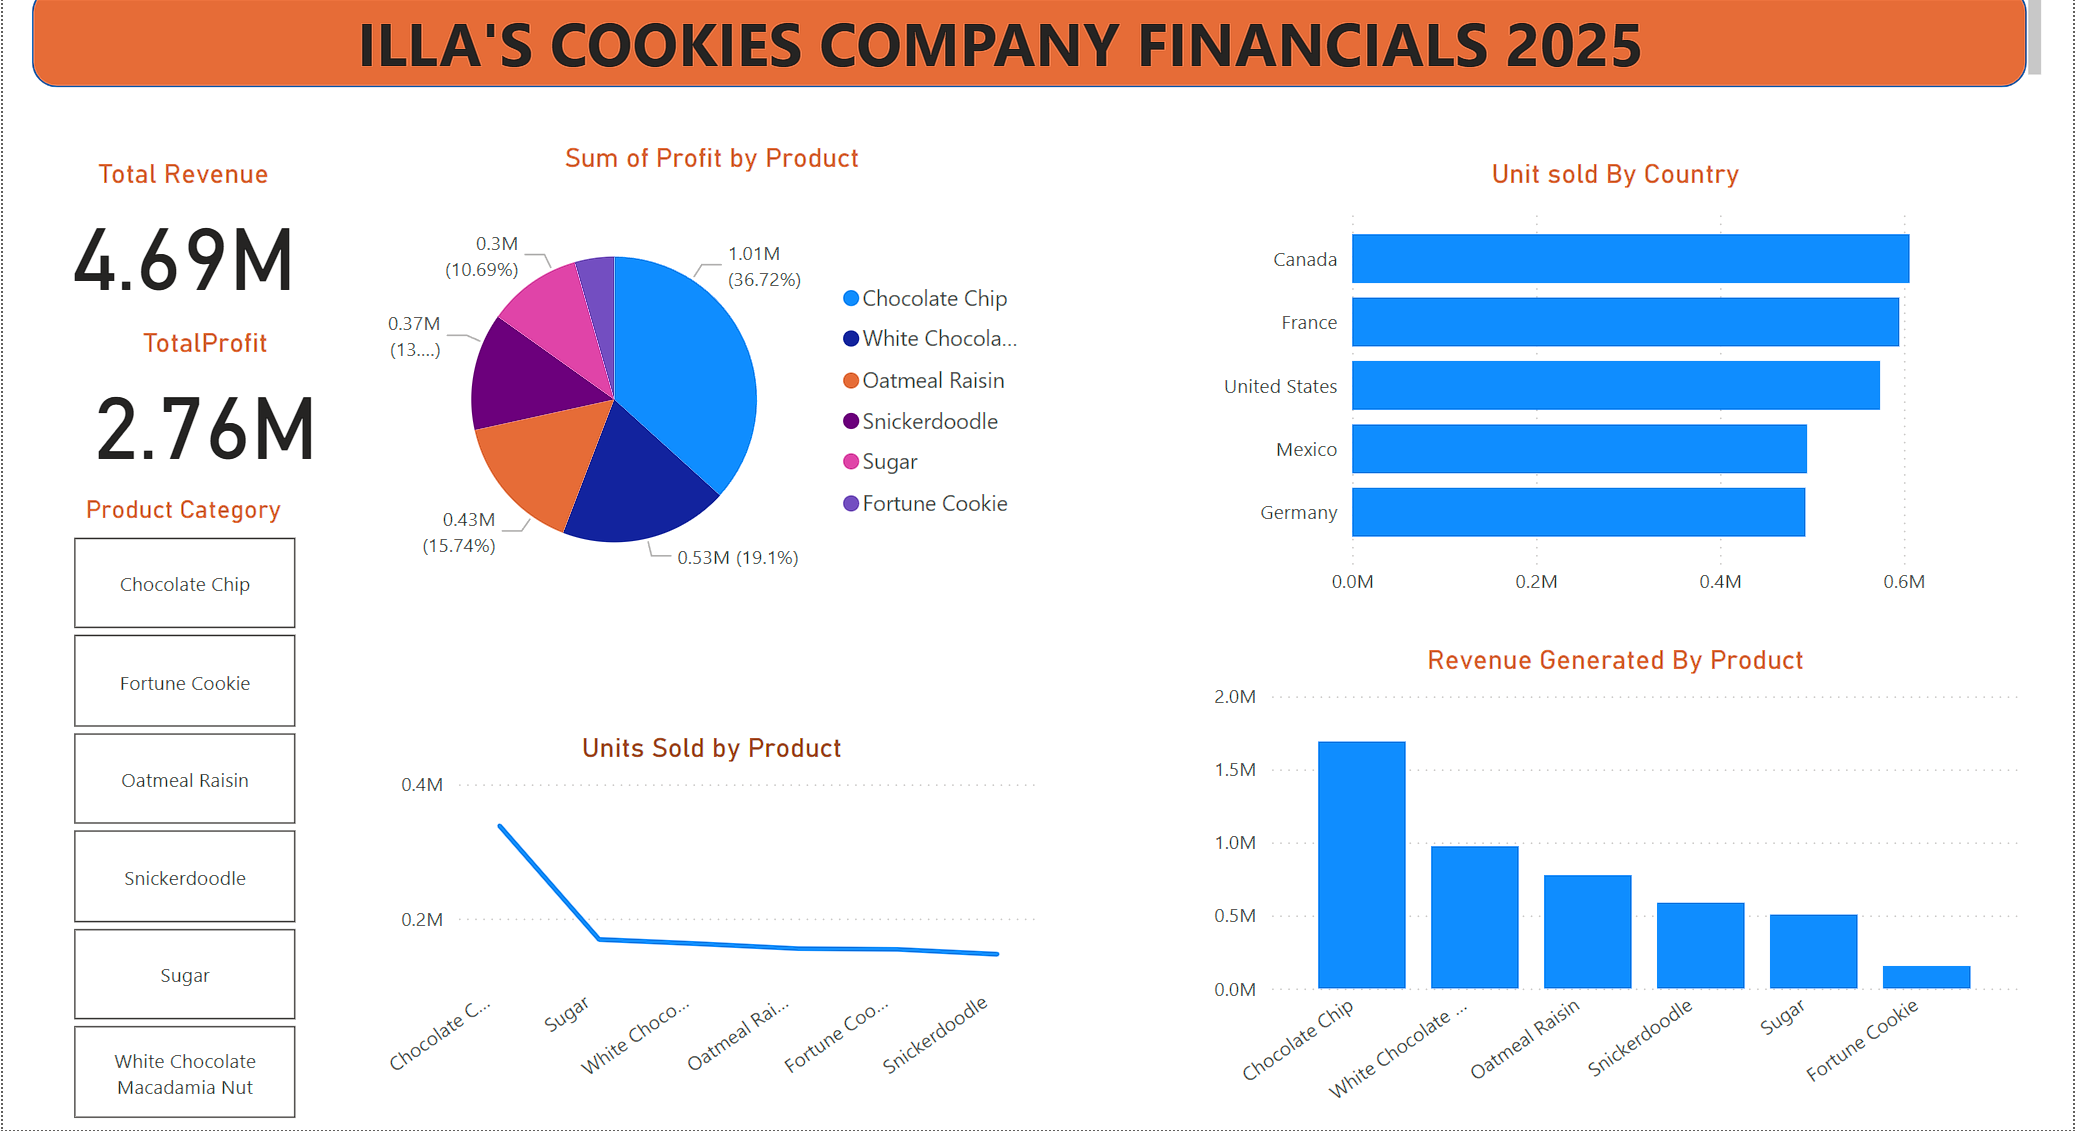

What the dashboard file says about the page in this screenshot:
{"tool":"powerbi","page":{"name":"Page 2","canvas":[1280,720],"ordinal":1},"visuals":[{"type":"lineChart","title":"Units Sold by Product","fields":{"Y":["Cookie Sales.Units Sold"],"Category":["Cookie Sales.Product"]},"box":[232.5,473.1,412,226.5],"z":0},{"type":"shape","box":[18,13,1233.9,62.1],"z":1000},{"type":"textbox","box":[17.3,13,1262.5,64.3],"z":2000},{"type":"pieChart","fields":{"Category":["Cookie Sales.Product"],"Y":["Cookie Sales.Profit"]},"box":[232.5,108.3,412,300.7],"z":3000},{"type":"clusteredBarChart","title":"Unit sold By Country","fields":{"Category":["Cookie Sales.Country"],"Y":["Cookie Sales.Profit"]},"box":[743.7,118.3,508.2,280.7],"z":4000},{"type":"lineStackedColumnComboChart","title":"Revenue Generated By Product","fields":{"Category":["Cookie Sales.Product"],"Y":["Cookie Sales.Revenue"]},"box":[743.7,419,508.2,300.7],"z":5000},{"type":"card","title":"Total Revenue","fields":{"Values":["Cookie Sales.Revenue"]},"box":[18,118.3,187.4,93.2],"z":6000},{"type":"card","title":"TotalProfit","fields":{"Values":["Cookie Sales.Profit"]},"box":[18,222.5,214.5,91.2],"z":7000},{"type":"slicer","title":"Product Category","fields":{"Values":["Cookie Sales.Product"]},"box":[18,326.8,187.4,392.9],"z":8000}]}

Visuals, with their boxes on the page's 1280x720 design canvas (x1, y1, x2, y2). These are canvas units, not pixel positions in the 2080x1131 screenshot, which may show the page scaled, cropped or inside an application window:
"Units Sold by Product" lineChart: box=[232, 473, 644, 700]
shape: box=[18, 13, 1252, 75]
textbox: box=[17, 13, 1280, 77]
pieChart - Cookie Sales.Product x Cookie Sales.Profit: box=[232, 108, 644, 409]
"Unit sold By Country" clusteredBarChart: box=[744, 118, 1252, 399]
"Revenue Generated By Product" lineStackedColumnComboChart: box=[744, 419, 1252, 720]
"Total Revenue" card: box=[18, 118, 205, 212]
"TotalProfit" card: box=[18, 222, 232, 314]
"Product Category" slicer: box=[18, 327, 205, 720]
